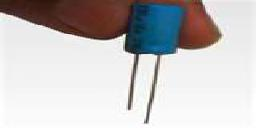Electrolytic-Capacitor: (122, 1, 189, 128)
